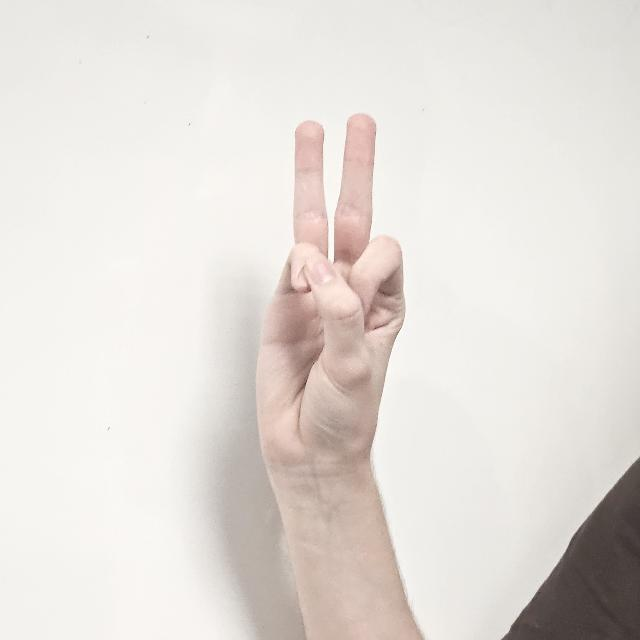R: (250, 114, 406, 474)
